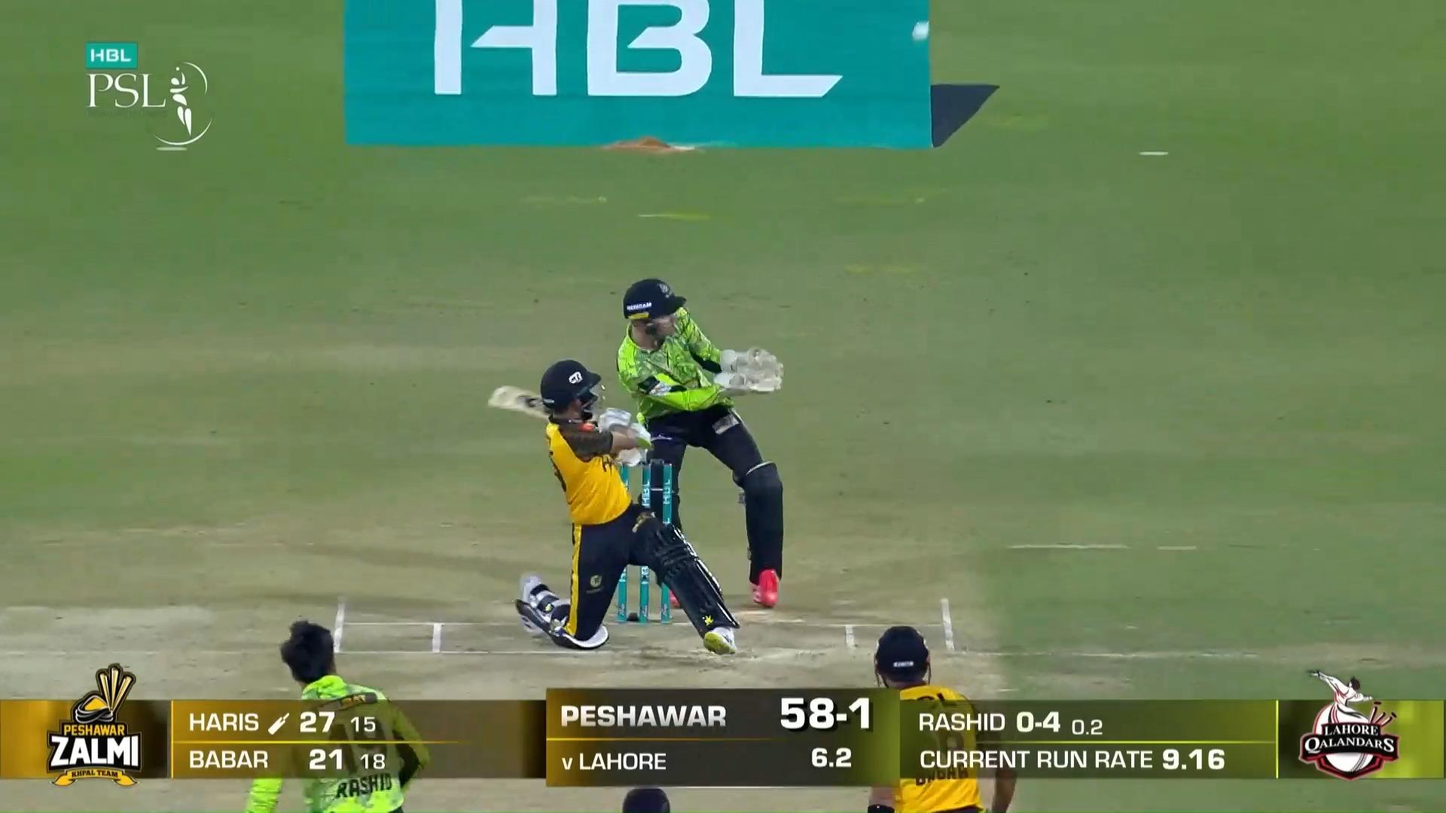batsman: (487, 358, 740, 656)
